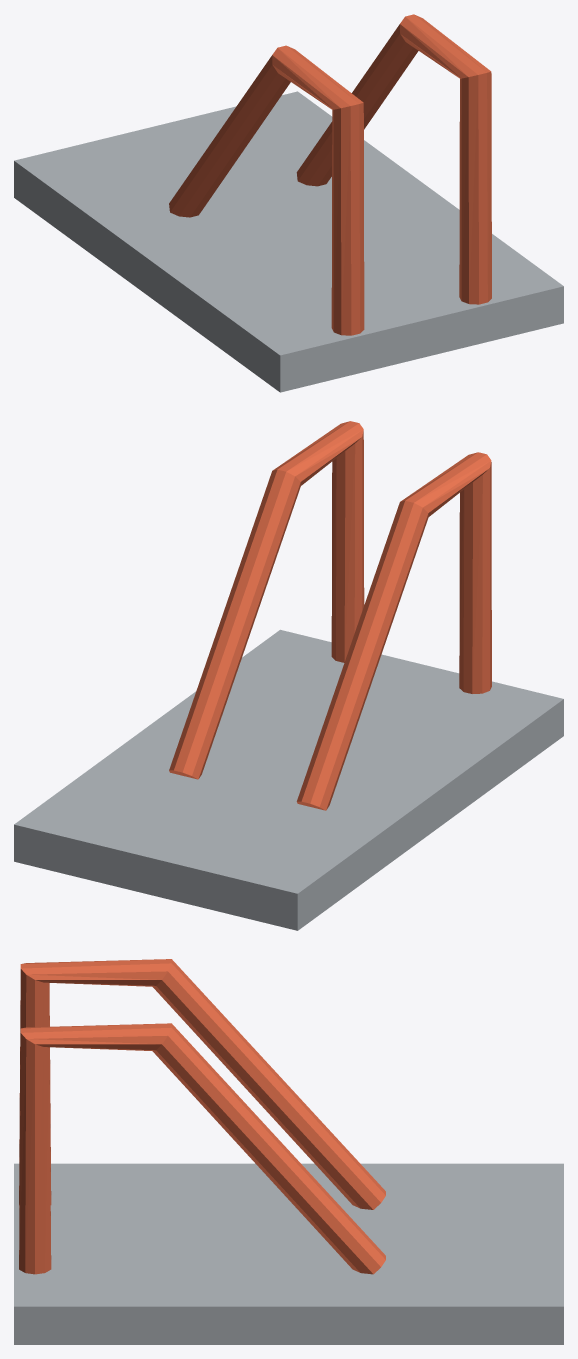
The model's file is motorcycle-racing-and-street-bikes-front-wheel-chock-856c80d9__15473.glb.
3 views of the same model, one above another, from view 1: azimuth 30°, elevation 25°; view 2: azimuth 150°, elevation 25°; view 3: azimuth 270°, elevation 25° (orthographic). The views are drawn at different scales.
Parts seen in each view (by area): view 1: front-wheel-chock; view 2: front-wheel-chock; view 3: front-wheel-chock.
Part boxes in pixels (left/top/right/bottom): front-wheel-chock: left=14, top=14, right=563, bottom=392; front-wheel-chock: left=14, top=421, right=563, bottom=930; front-wheel-chock: left=14, top=959, right=563, bottom=1344.
Size of the model in its own units: 0.4 by 0.3652 by 0.65.
